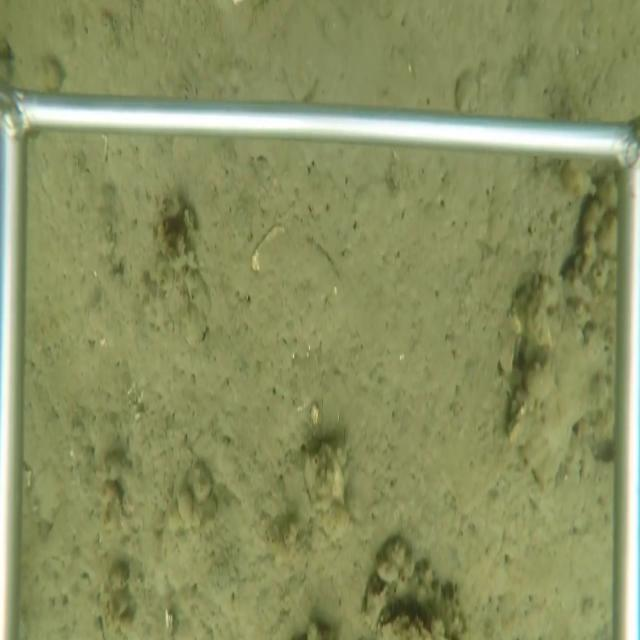Oyster-Open: (377, 606, 410, 635)
